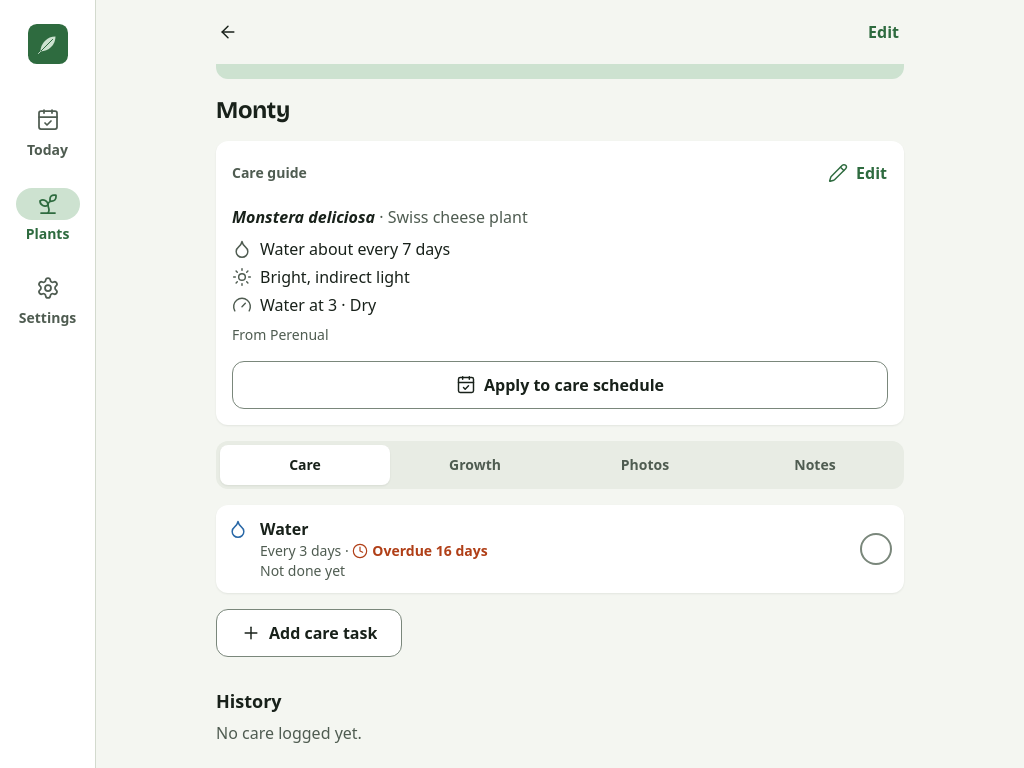
Care guide › names the new interval when it updates an existing task
(page scrolled)
Expected: the text "Every 3 days · Overdue 16 days" is shown, [260, 541, 488, 561]
Click the button "Apply to care schedule".
click(560, 385)  # box [232, 361, 888, 409]
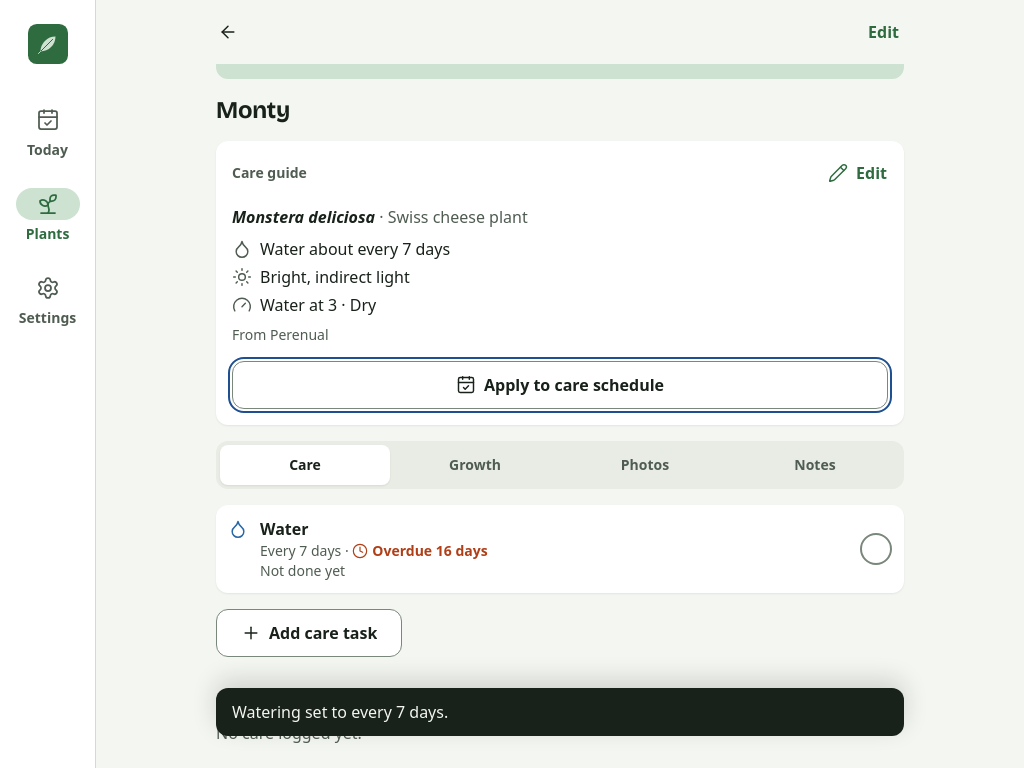
Expected: the text "Watering set to every 7 days." is shown, [232, 701, 448, 723]
